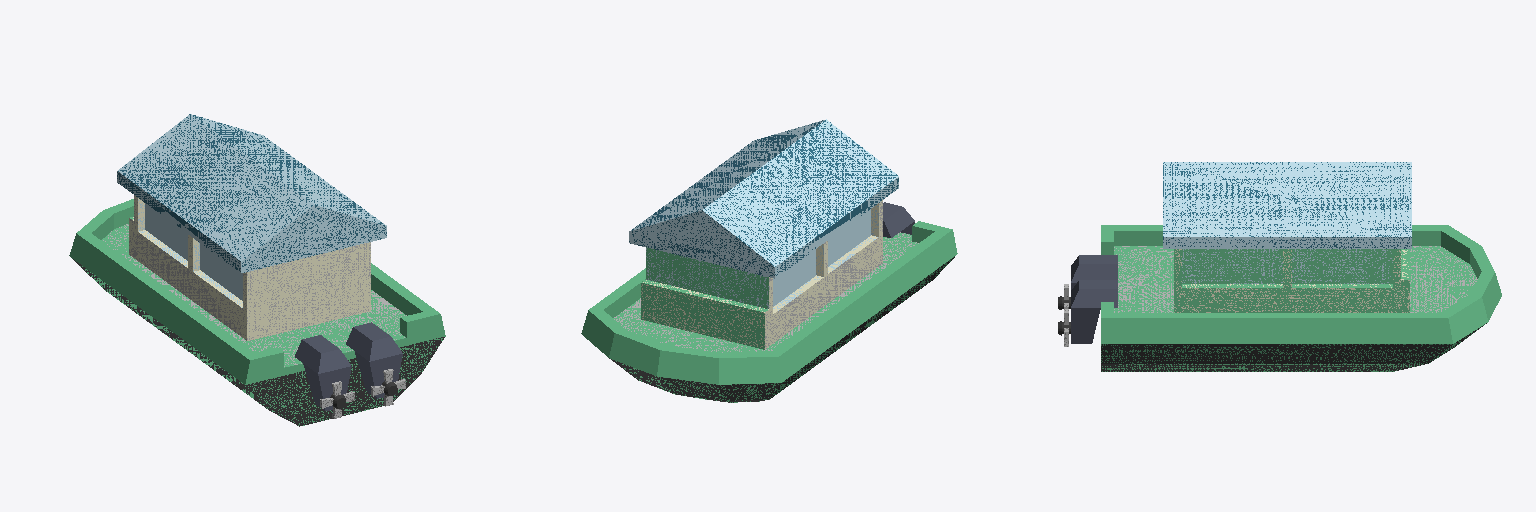
File: boat_001.obj
The picture shows the model from 3 angles: view 1: azimuth 30°, elevation 25°; view 2: azimuth 150°, elevation 25°; view 3: azimuth 270°, elevation 25°; orthographic projection.
Visible parts, largest first — view 1: boat_001, Group; view 2: boat_001, Group; view 3: boat_001, Group.
Part boxes in pixels (bbox=[...]): boat_001: bbox=[69, 114, 445, 426]; Group: bbox=[295, 322, 405, 418]; boat_001: bbox=[581, 119, 957, 402]; Group: bbox=[883, 202, 914, 237]; boat_001: bbox=[1101, 162, 1501, 371]; Group: bbox=[1058, 255, 1117, 346].
Bounding box in the file's own units: 2.68 × 2.4 × 5.14.